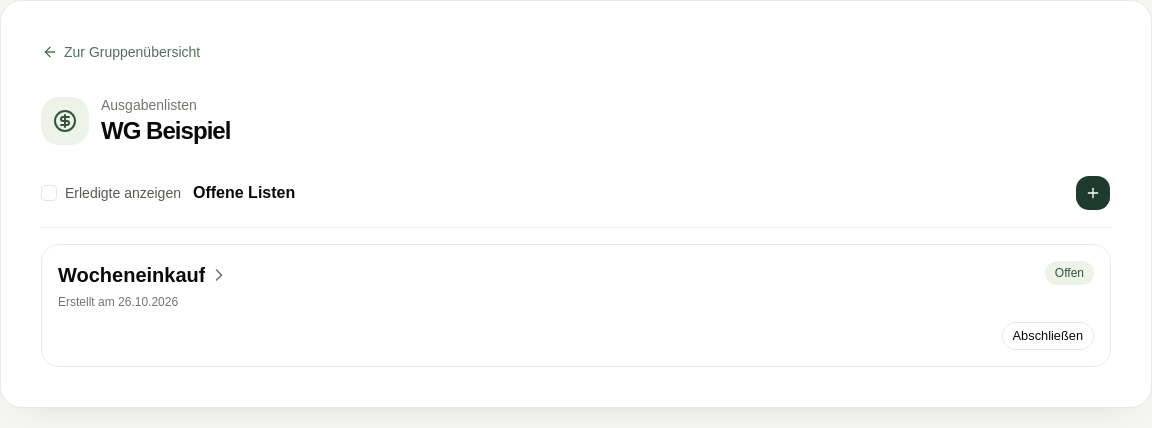
Test case: ExpenseLists › shows status errors as an error toast
This screenshot has width=1152, height=428.
Step 1. Click the button "Abschließen" → (1048, 336), box [1002,322,1094,350]
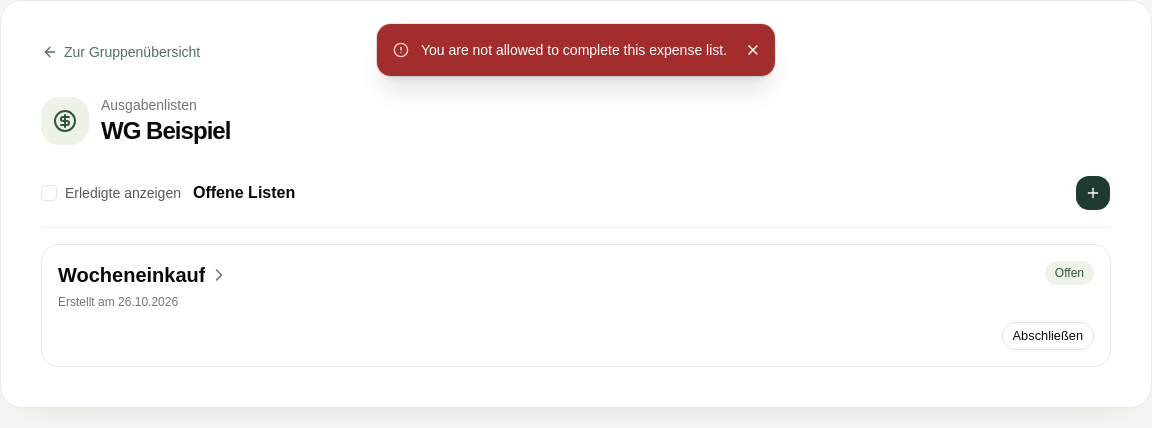
Expected: the message reads "You are not allowed to complete this expense list.", [421,42,727,58]
